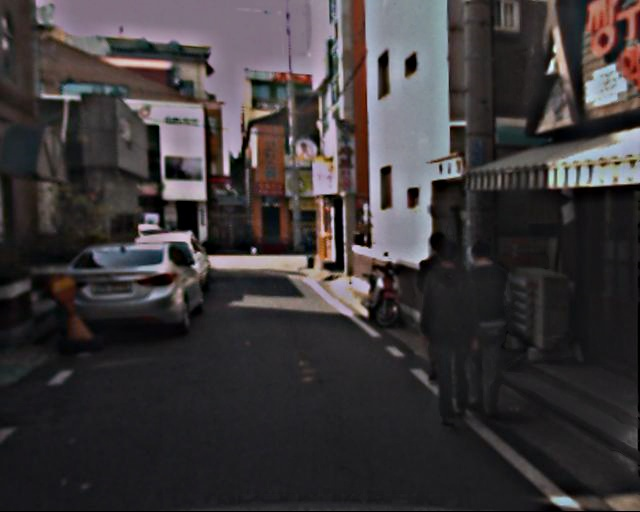person: (414, 244, 489, 427), (447, 241, 518, 414), (410, 231, 472, 382)
